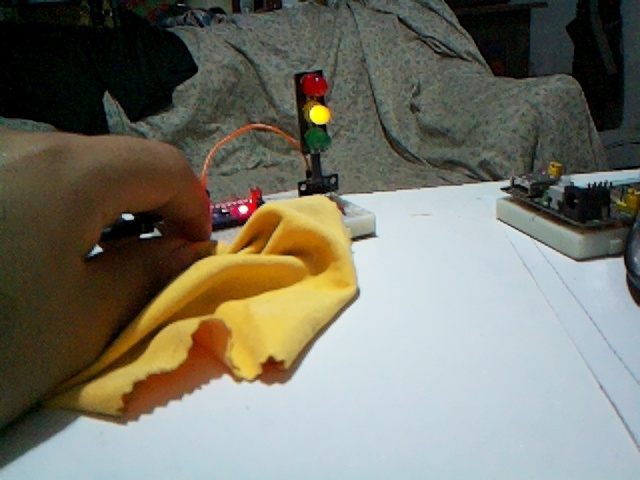traffic_light_yellow: (295, 70, 333, 170)
